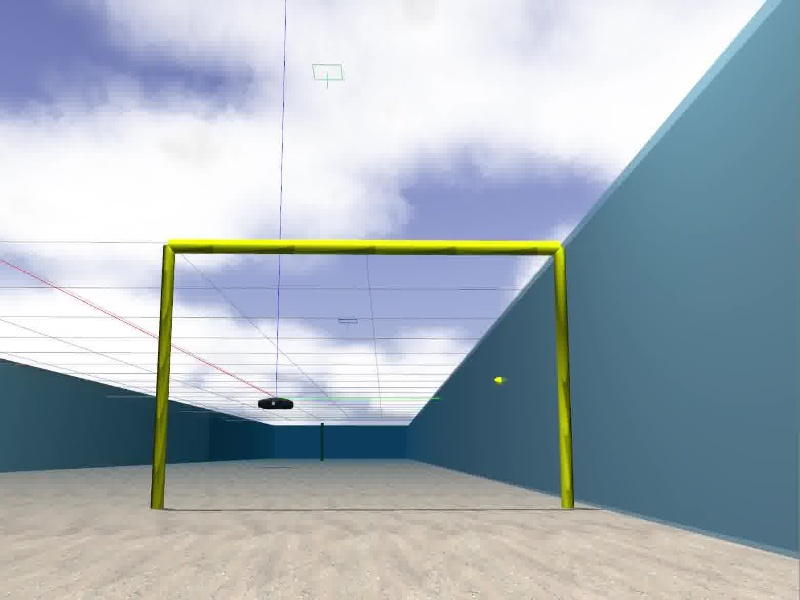gate: (146, 238, 575, 512)
